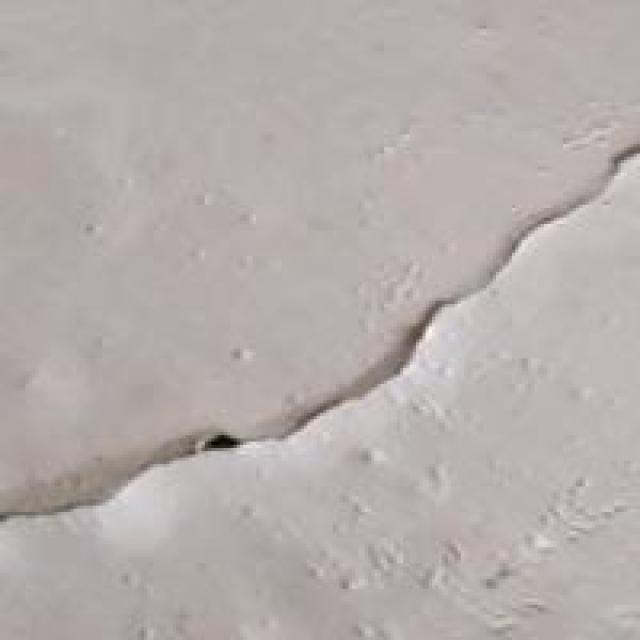crack: (6, 147, 637, 573)
